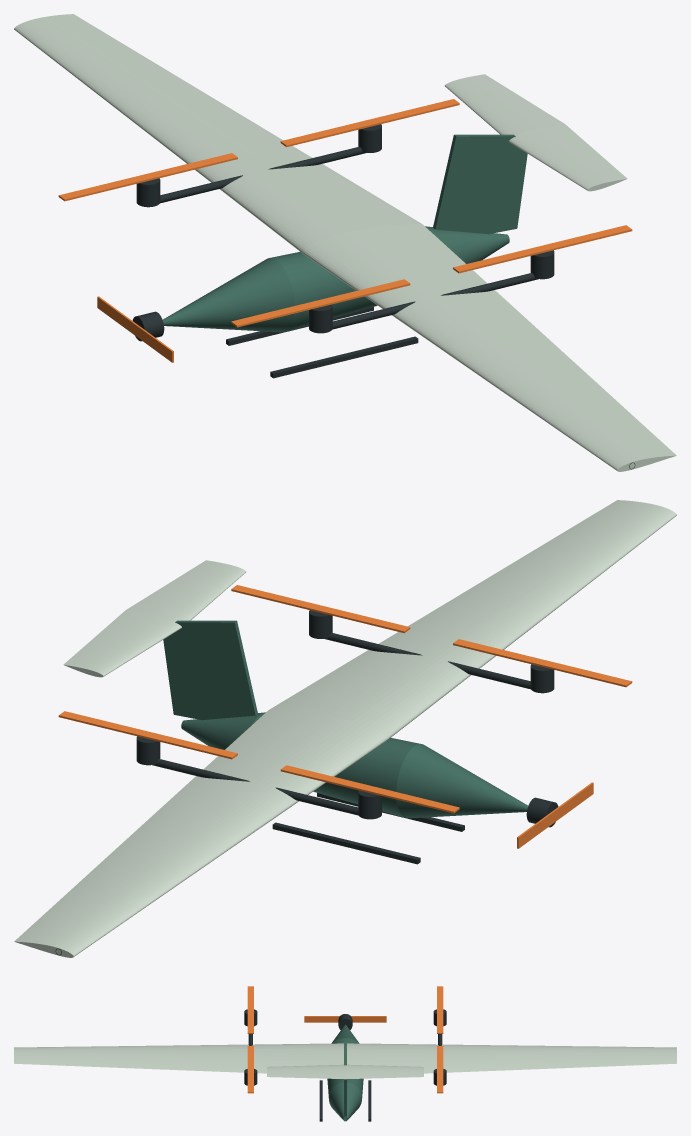
The picture shows the model from 3 angles, top to bottom: view 1: azimuth 30°, elevation 25°; view 2: azimuth 150°, elevation 25°; view 3: azimuth 270°, elevation 25°; orthographic projection. The views are drawn at different scales.
Parts seen in each view (by area): view 1: wing-1, wing1, fuselage, fin, tail-1, tail1, prop_-1_180.0, prop_-1_700.0, prop_1_180.0, prop_1_700.0, boom-1, boom1 (+2 smaller); view 2: wing1, wing-1, fuselage, fin, tail1, tail-1, prop_-1_180.0, prop_1_180.0, prop_1_700.0, prop_-1_700.0, boom1, boom-1 (+2 smaller); view 3: wing-1, wing1, fuselage, tail-1, tail1, cruise_prop, prop_-1_180.0, prop_1_180.0, prop_-1_700.0, prop_1_700.0.
Boxes of the visible parts, x1,y1,x2,y2 form: wing-1: [303, 224, 676, 471]; wing1: [14, 14, 421, 253]; fuselage: [162, 226, 509, 332]; fin: [433, 134, 527, 234]; tail-1: [509, 124, 627, 191]; tail1: [444, 74, 564, 135]; prop_-1_180.0: [231, 279, 410, 327]; prop_-1_700.0: [453, 225, 632, 273]; prop_1_180.0: [58, 153, 237, 201]; prop_1_700.0: [280, 99, 459, 147]; boom-1: [332, 273, 538, 329]; boom1: [160, 146, 365, 203]; wing1: [14, 710, 387, 957]; wing-1: [269, 500, 676, 739]; fuselage: [181, 712, 528, 818]; fin: [163, 620, 257, 720]; tail1: [63, 610, 181, 677]; tail-1: [126, 560, 246, 621]; prop_-1_180.0: [453, 639, 632, 687]; prop_1_180.0: [280, 765, 459, 813]; prop_1_700.0: [58, 711, 237, 759]; prop_-1_700.0: [231, 585, 410, 633]; boom1: [152, 759, 358, 815]; boom-1: [325, 632, 530, 689]; wing-1: [14, 1043, 343, 1073]; wing1: [347, 1043, 676, 1073]; fuselage: [327, 1024, 363, 1121]; tail-1: [267, 1064, 345, 1079]; tail1: [345, 1064, 423, 1079]; cruise_prop: [304, 1016, 386, 1022]; prop_-1_180.0: [247, 986, 253, 1033]; prop_1_180.0: [437, 986, 443, 1033]; prop_-1_700.0: [247, 1046, 253, 1093]; prop_1_700.0: [437, 1046, 443, 1093].
Bounding box in the file's own units: 1009 × 393 × 2450.
